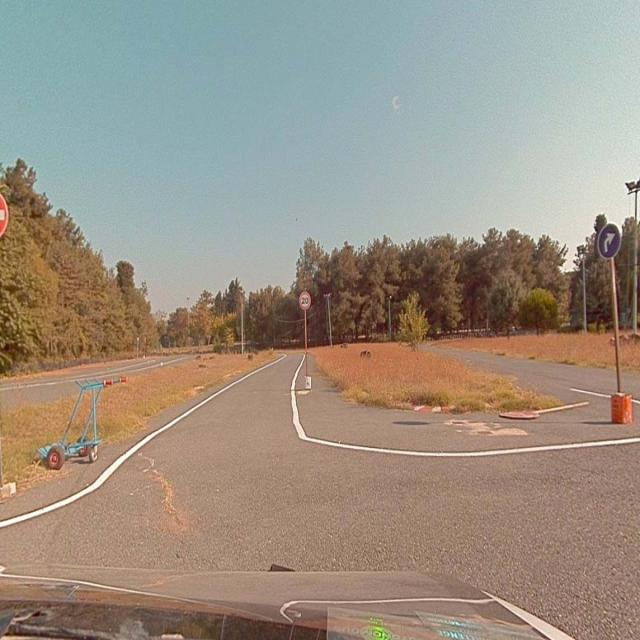20: (300, 292, 310, 308)
sag: (598, 225, 619, 258)
